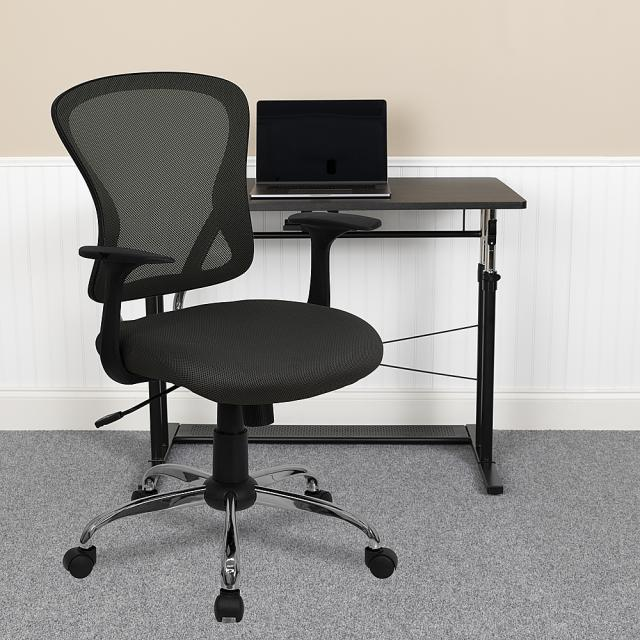chair: (45, 54, 422, 620)
